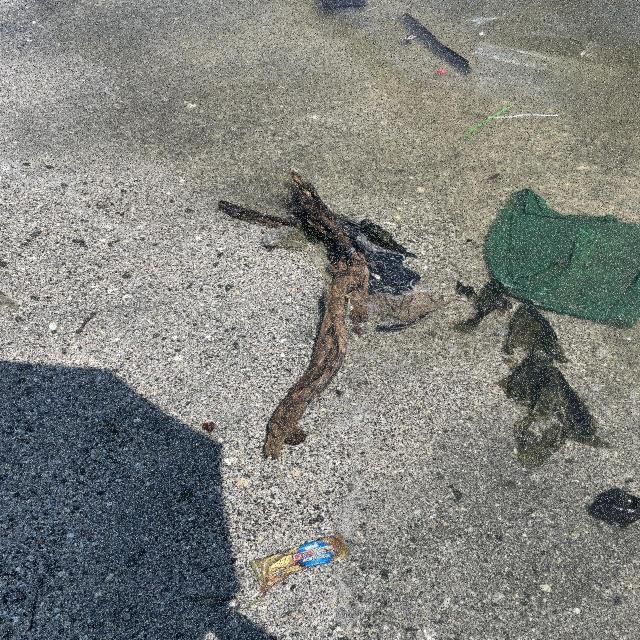plastic_waste: (251, 533, 353, 595), (464, 105, 514, 139)
